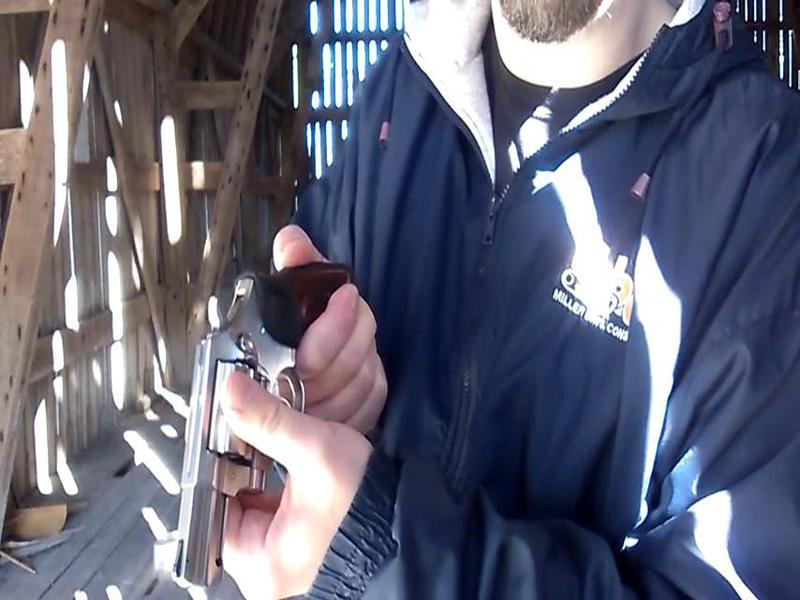Revolver: (157, 253, 390, 600)
